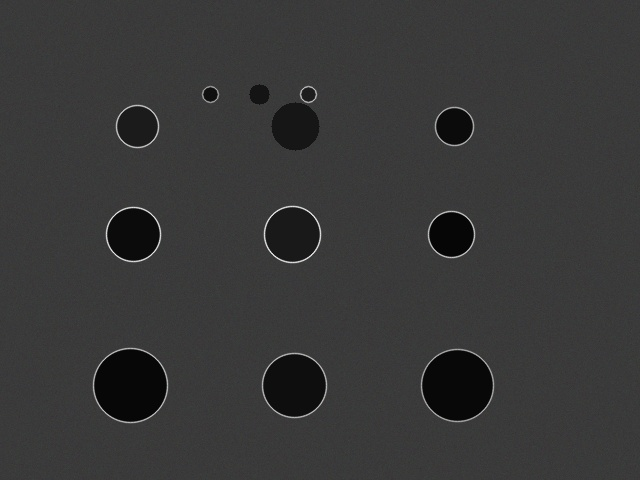hole: (93, 348, 167, 422), (421, 349, 493, 421), (262, 353, 326, 417), (264, 206, 320, 262), (106, 207, 160, 261), (271, 102, 319, 150), (428, 211, 474, 257), (116, 105, 158, 147), (435, 107, 473, 145), (249, 84, 269, 104), (202, 86, 218, 102), (300, 86, 316, 102)
